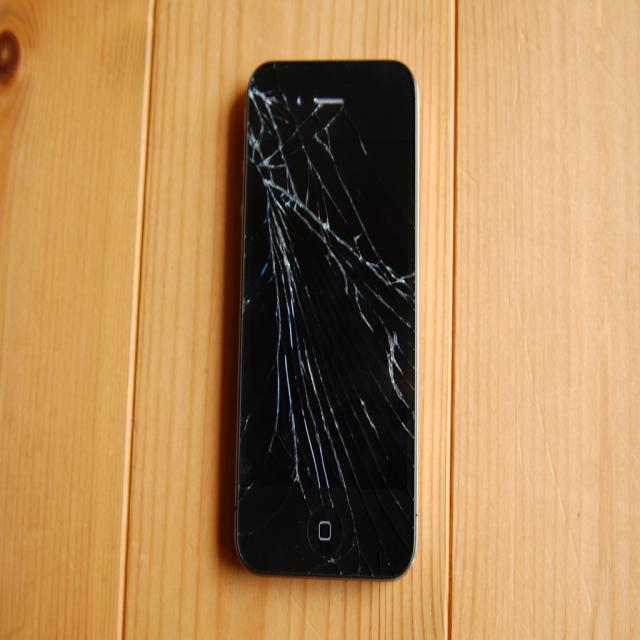Mobile-phone: (234, 58, 421, 584)
